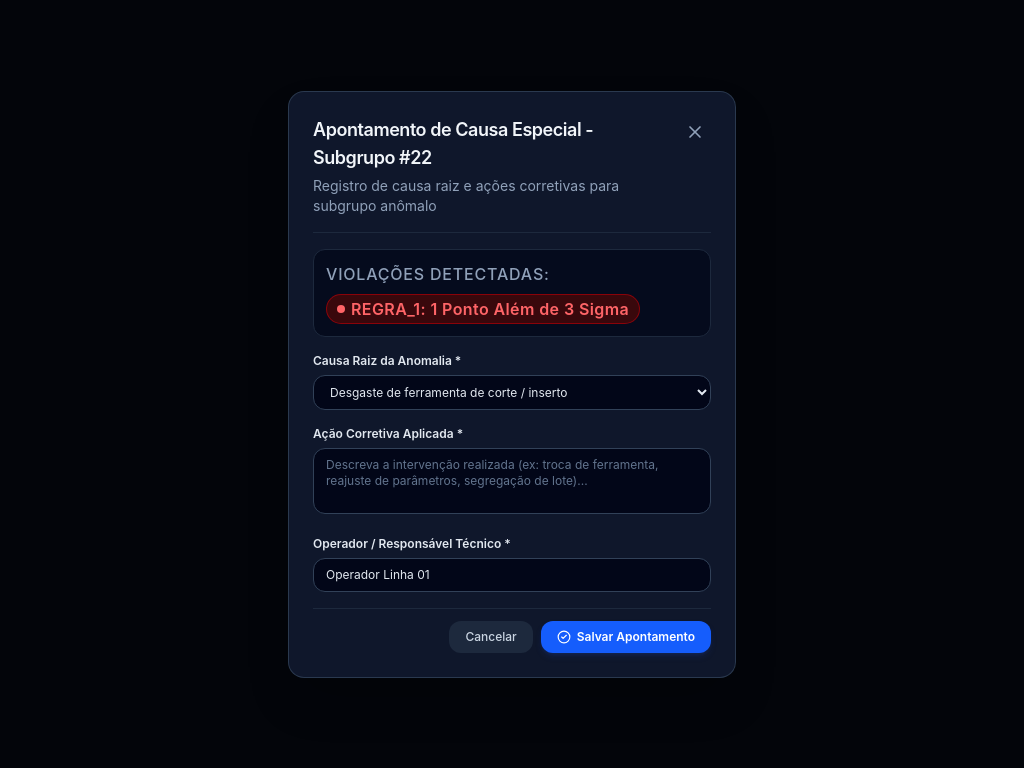
Fase 4 - Live CEP Studio (Feed de Alarmes, Modal de Causa Especial e LiveStudioPage) › ModalCausaEspecial [RF16] › deve validar formulário e exigir preenchimento de campos obrigatórios
The image size is (1024, 768).
Expected: the heading "Apontamento de Causa Especial - Subgrupo #22" is shown, [313, 118, 593, 168]
Tentar submeter sem preencher a ação corretiva
Click the button "Salvar Apontamento": (626, 636) [541, 620, 711, 652]
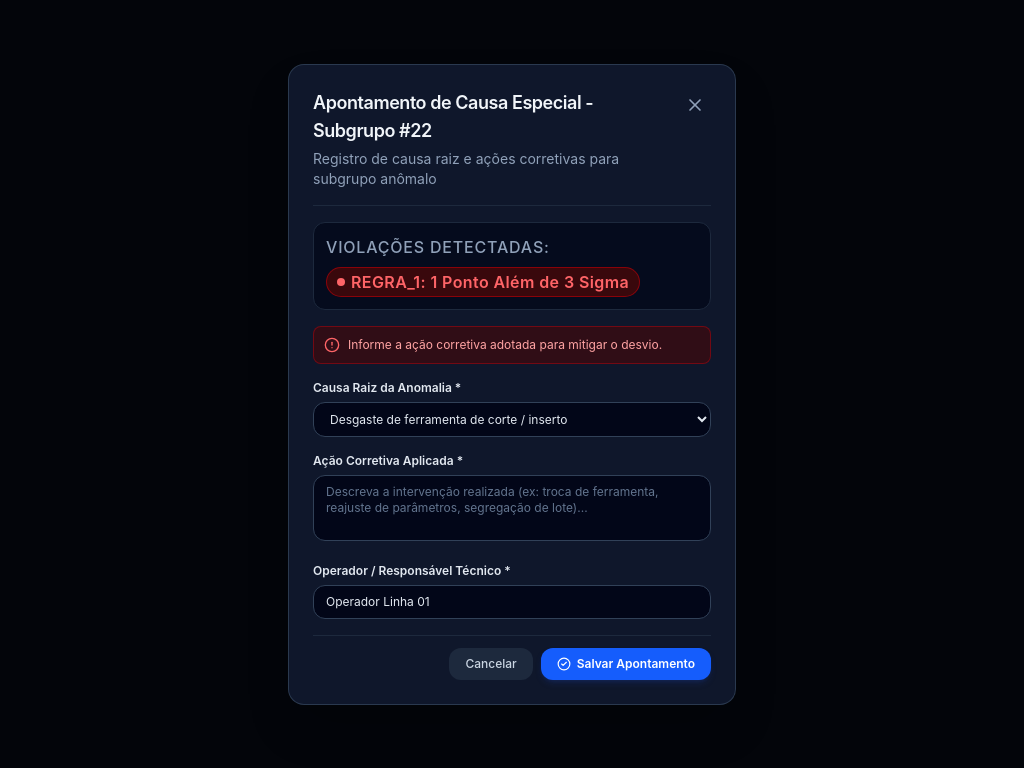
Result: the text "Informe a ação corretiva adotada para mitigar o desvio." is shown at [348, 336, 662, 352]
